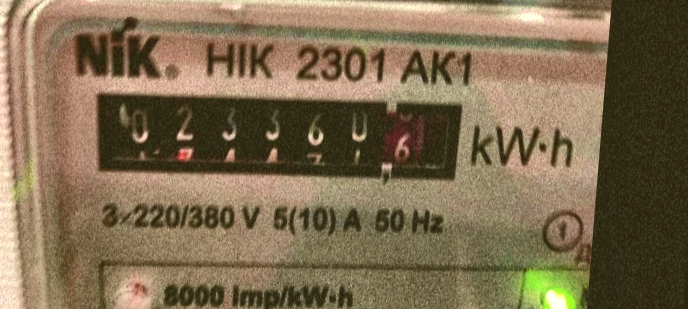0: (125, 102, 153, 146), (346, 105, 372, 144)
2: (169, 100, 198, 142)
3: (216, 101, 240, 143), (259, 103, 284, 143)
6: (300, 106, 329, 149), (391, 128, 415, 165)
screen: (68, 59, 477, 209)
